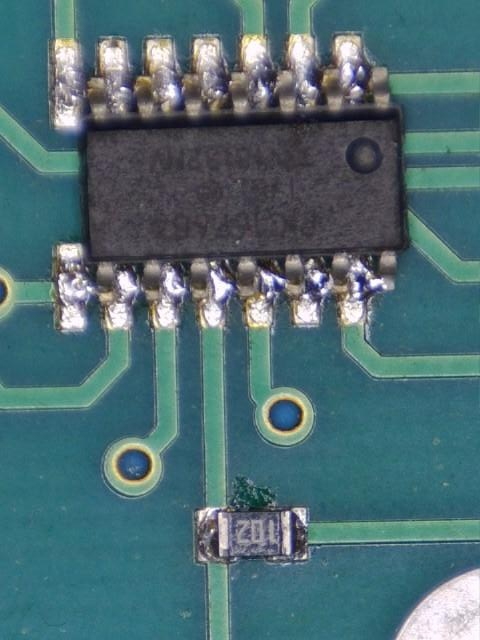pcb_defect: (50, 33, 409, 330), (49, 33, 390, 128), (56, 242, 397, 331)
